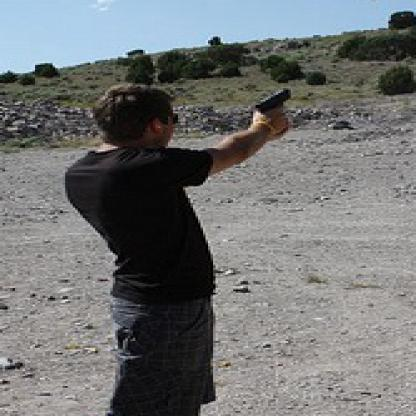gun: (248, 85, 293, 121)
